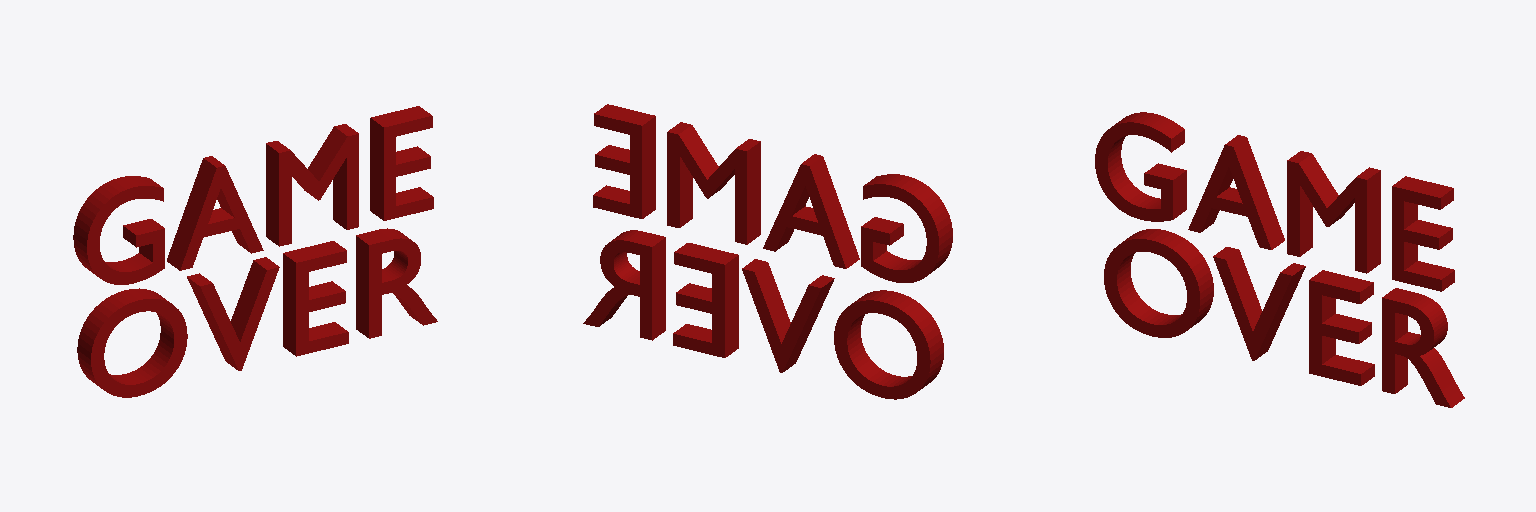
The picture shows the model from 3 angles: view 1: azimuth 30°, elevation 25°; view 2: azimuth 150°, elevation 25°; view 3: azimuth 330°, elevation 25°; orthographic projection.
Visible parts, largest first — view 1: Text.001, Text; view 2: Text.001, Text; view 3: Text.001, Text.
Part boxes in pixels (left/top/right/bottom): Text.001: left=73, top=106, right=433, bottom=284; Text: left=77, top=228, right=437, bottom=397; Text.001: left=593, top=104, right=952, bottom=282; Text: left=583, top=230, right=943, bottom=399; Text.001: left=1095, top=112, right=1454, bottom=291; Text: left=1104, top=229, right=1464, bottom=407.
Size of the model in its own units: 2.7 by 1.55 by 0.2118.
2 materials, 1 textured.